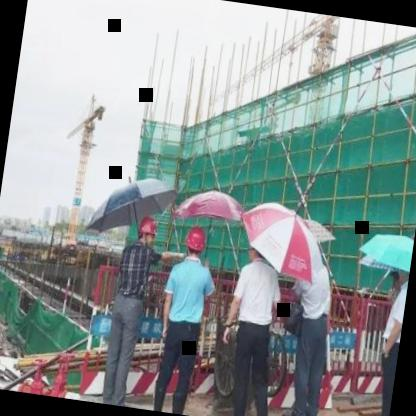helmet: (180, 222, 210, 262), (132, 212, 160, 249)
